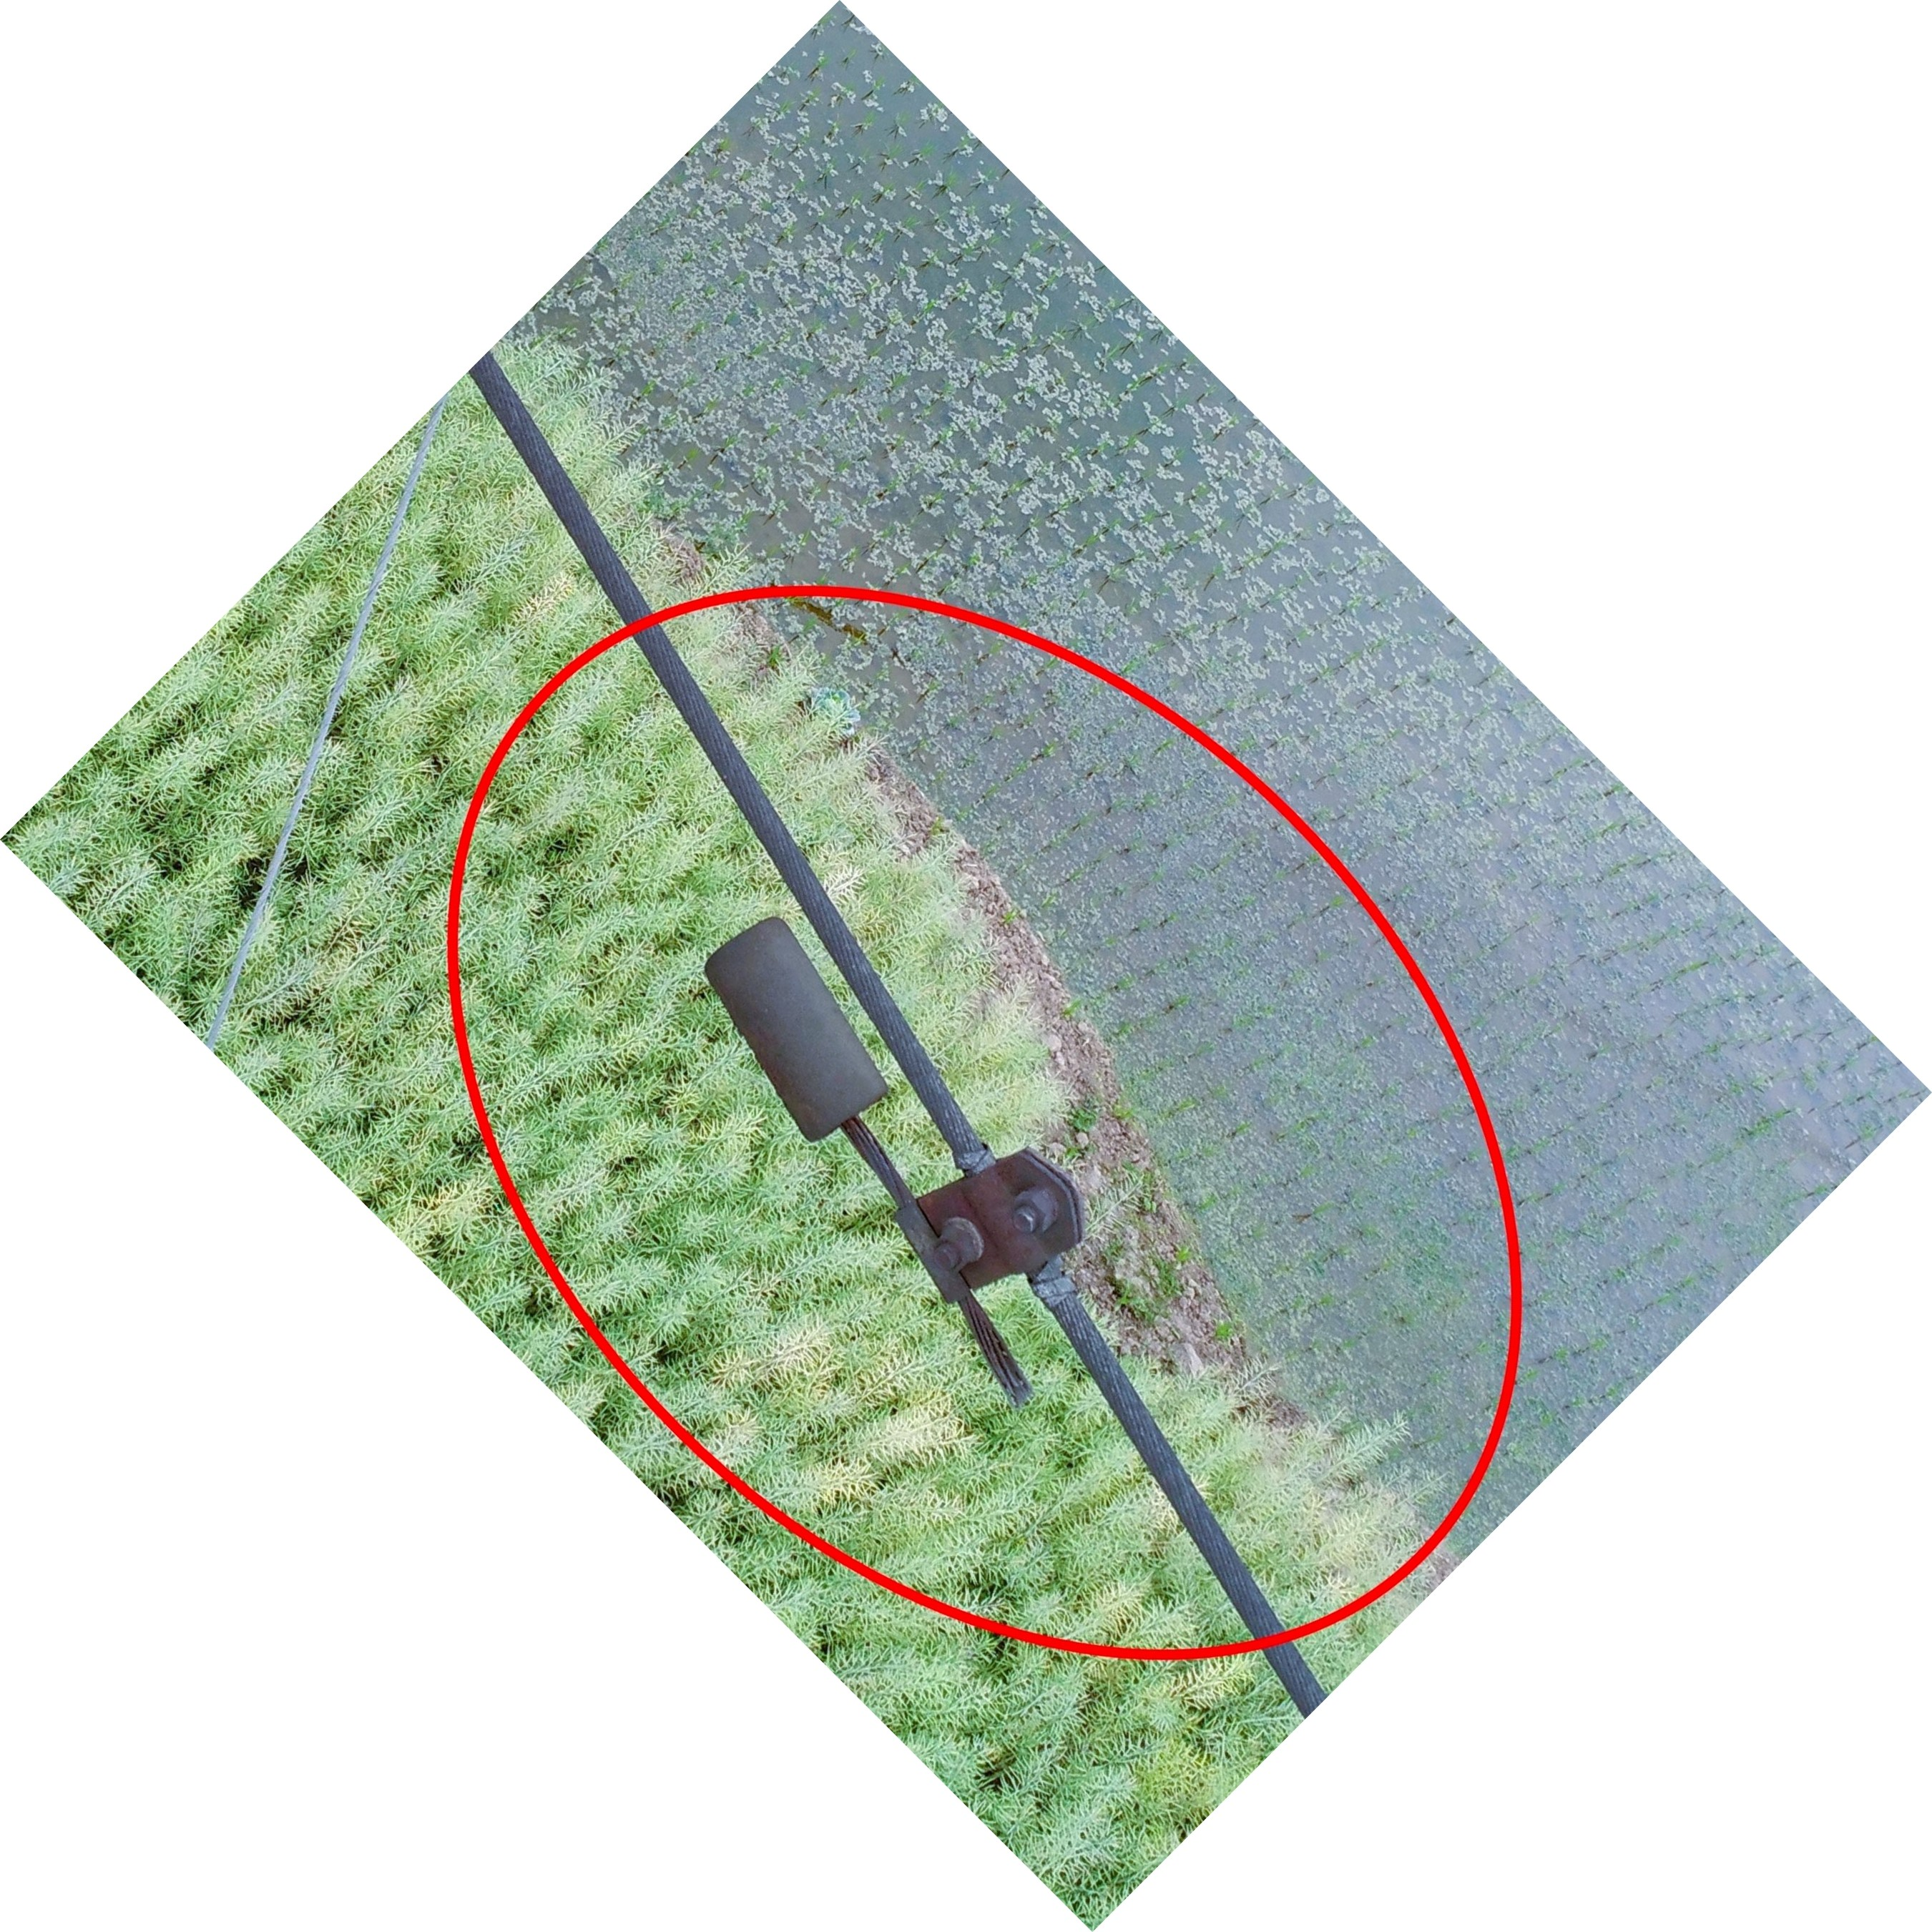Damage of shockproof hammer: (697, 901, 1086, 1428)
